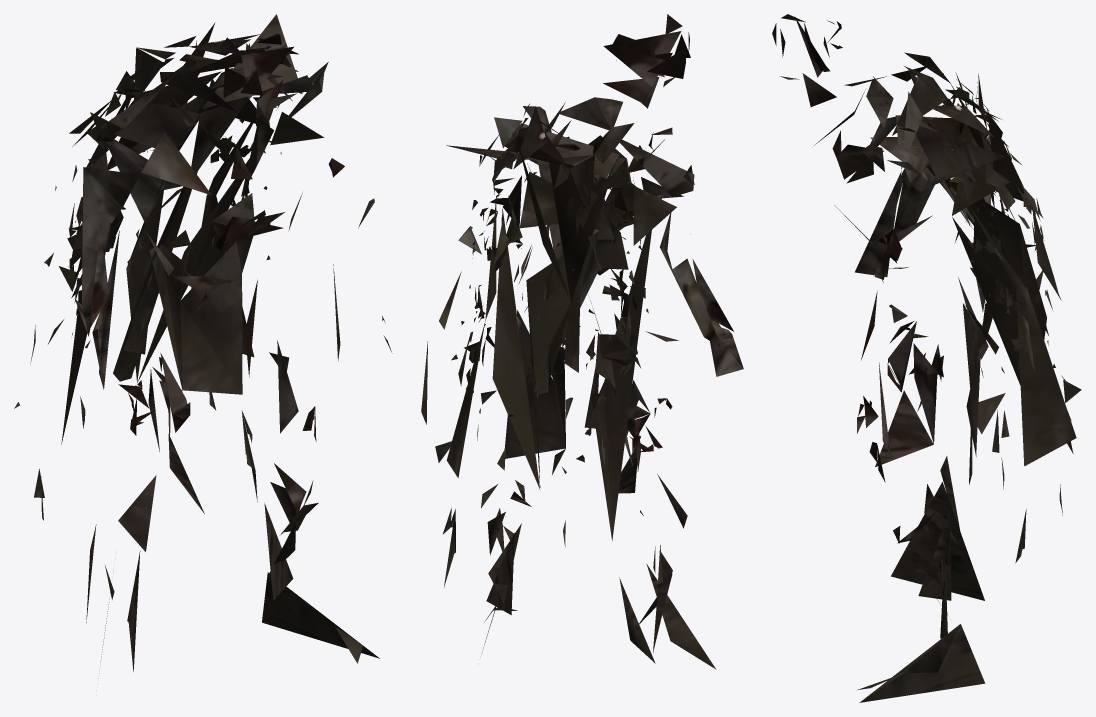
Rendered from ex_soldier_far.glb.
3 views of the same model, side by side, from view 1: azimuth 30°, elevation 25°; view 2: azimuth 150°, elevation 25°; view 3: azimuth 270°, elevation 25° (orthographic). The views are drawn at different scales.
Parts seen in each view (by area): view 1: Far; view 2: Far; view 3: Far.
Part boxes in pixels (box(x1,y1,x2,y2)): Far: box(14, 14, 392, 678); Far: box(421, 14, 743, 669); Far: box(772, 14, 1081, 702).
Size of the model in its own units: 0.7848 by 1.69 by 0.7646.
Materials: 1 (1 with a texture image).
